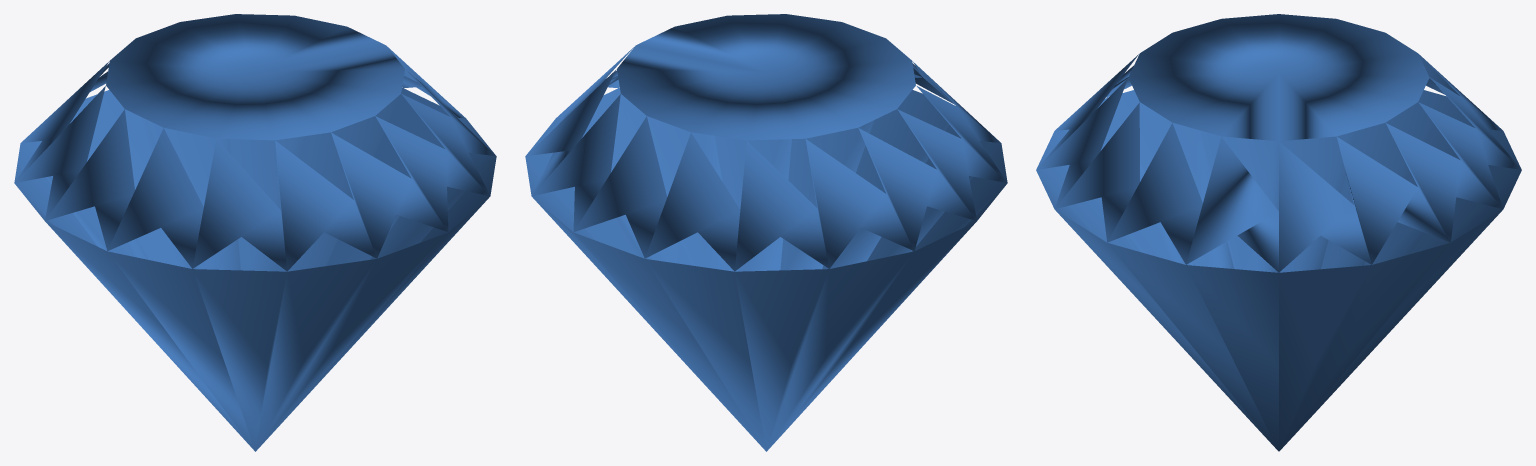
The model's file is brilliant-blue.glb.
3 views of the same model, side by side, from view 1: azimuth 30°, elevation 25°; view 2: azimuth 150°, elevation 25°; view 3: azimuth 270°, elevation 25° (orthographic).
Parts seen in each view (by area): view 1: gem; view 2: gem; view 3: gem.
Boxes of the visible parts, box(x1,y1,x2,y2) form: gem: box(14, 14, 496, 451); gem: box(525, 14, 1007, 451); gem: box(1036, 14, 1521, 451).
Bounding box in the file's own units: 2 × 1.72 × 2.
